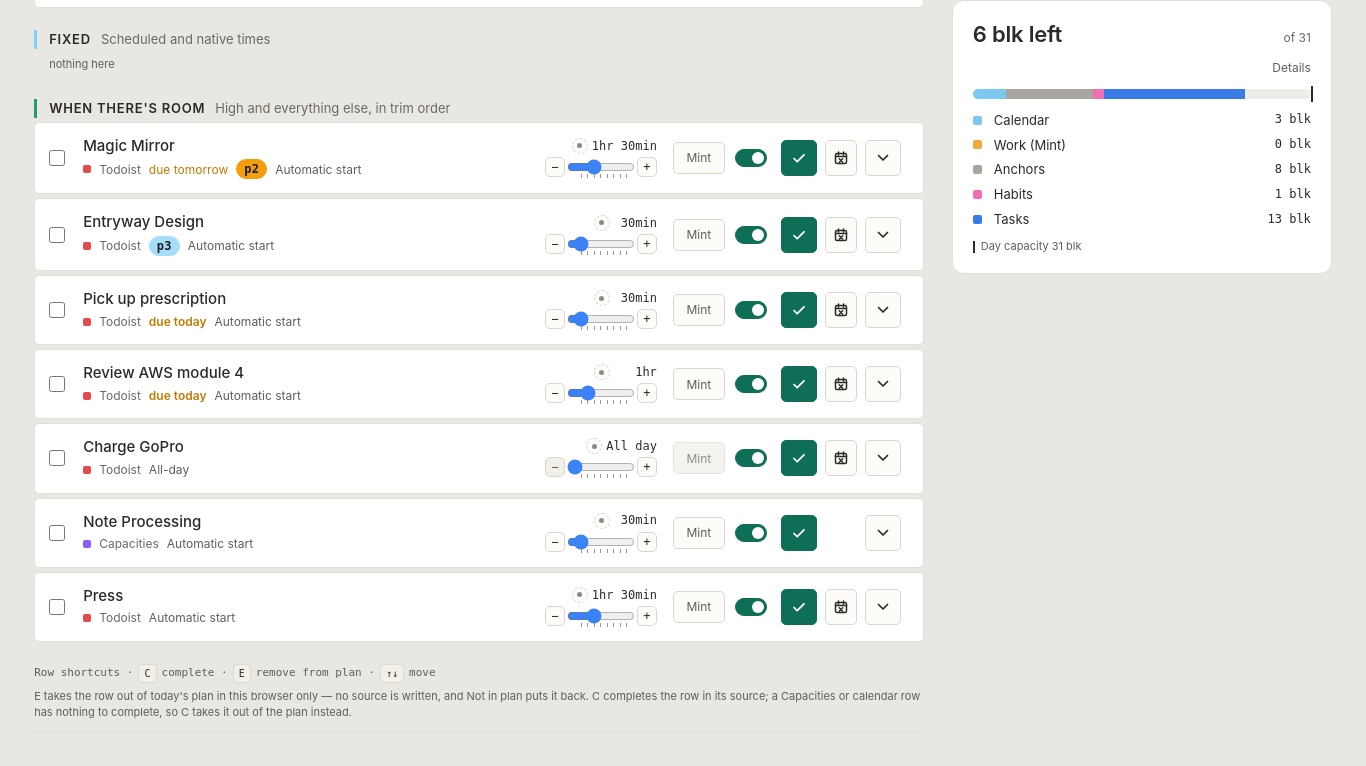
Test: typed exact duration on the expanded row › applies an exact off-grid duration that the slider cannot express
(page scrolled)
Click the 7th button named "Expand" at x=883, y=607, box [865,589,901,625]
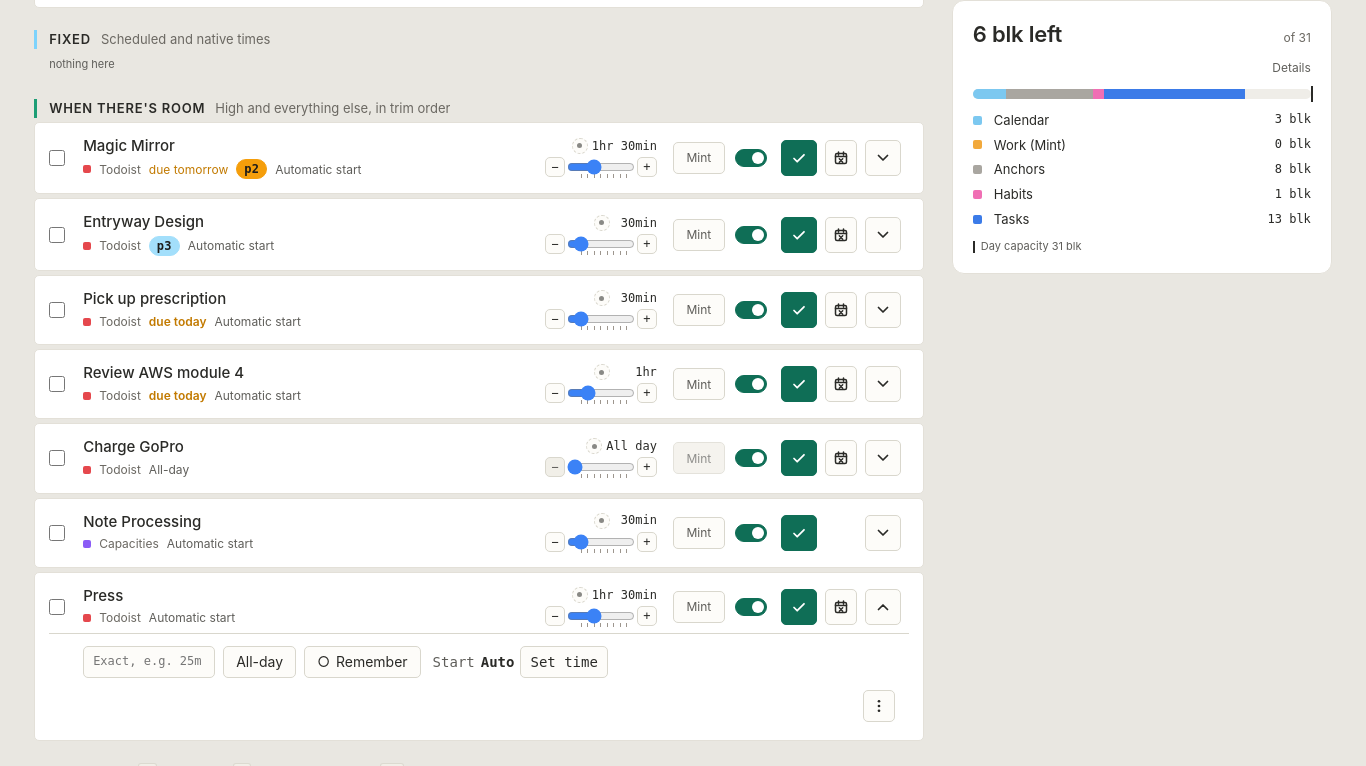
Type "25m" into the field named "Exact minutes" at x=149, y=662, box [83,646,215,678]
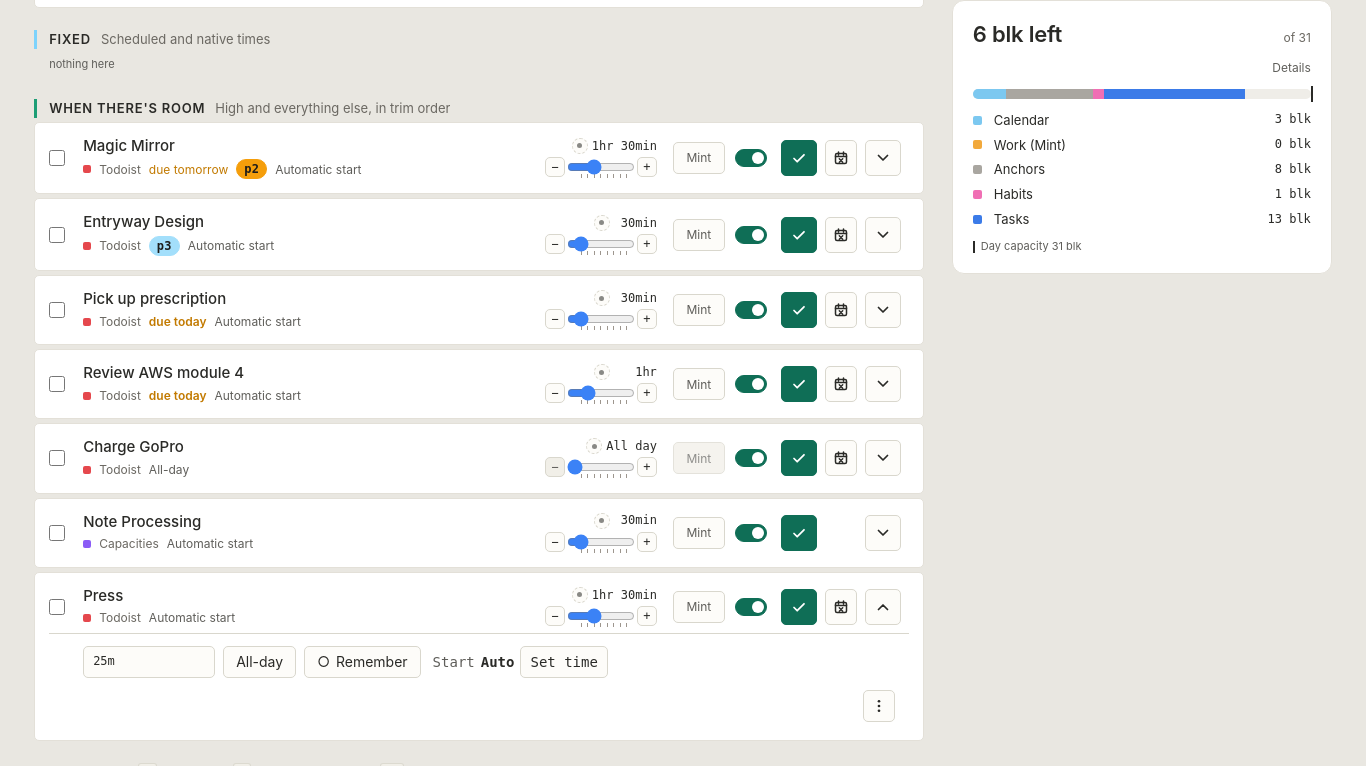
Press Enter in the field named "Exact minutes", box [83,646,215,678]
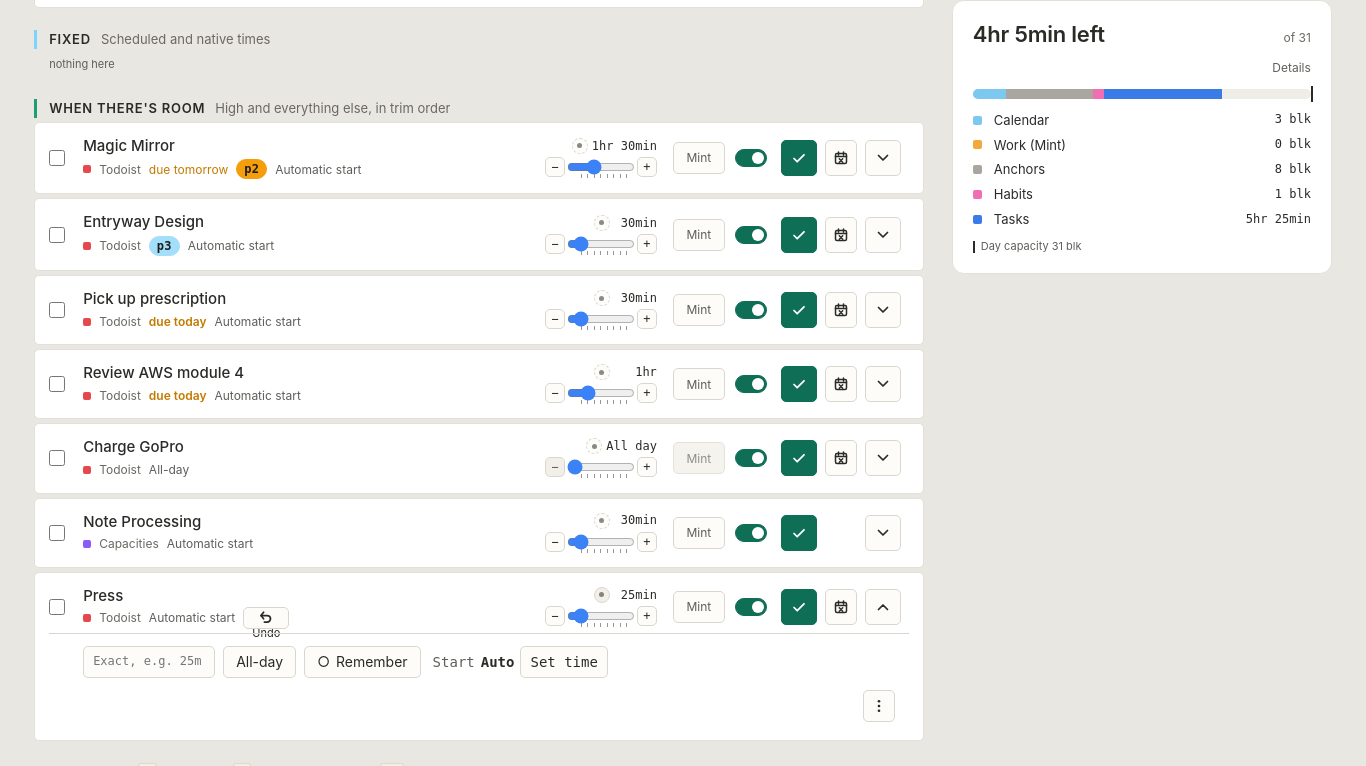
Result: the text with class "dslider__label" reads "25min" at [621,588,657,602]
